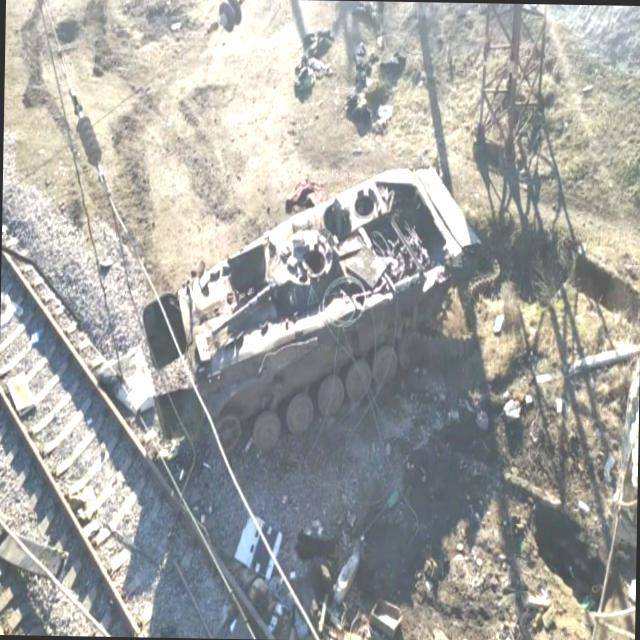Destroyed: (157, 161, 481, 442)
